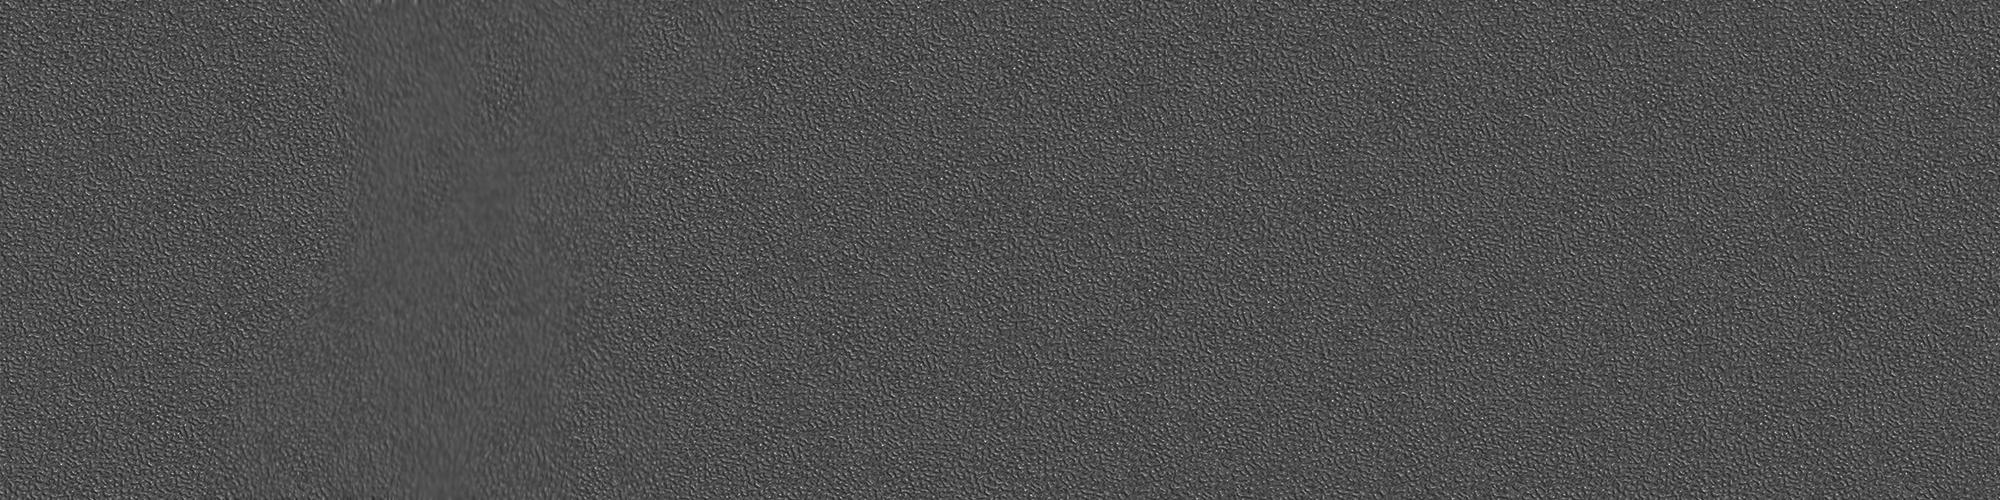Flow_Lines: (316, 41, 533, 491)
